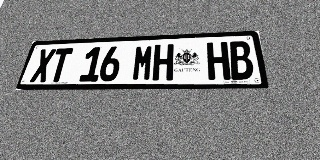1: (79, 47, 104, 82)
6: (98, 46, 122, 81)
B: (228, 41, 255, 80)
H: (207, 42, 231, 80), (152, 44, 174, 81)
M: (131, 45, 154, 81)
T: (47, 48, 73, 82)
X: (29, 49, 56, 82)
